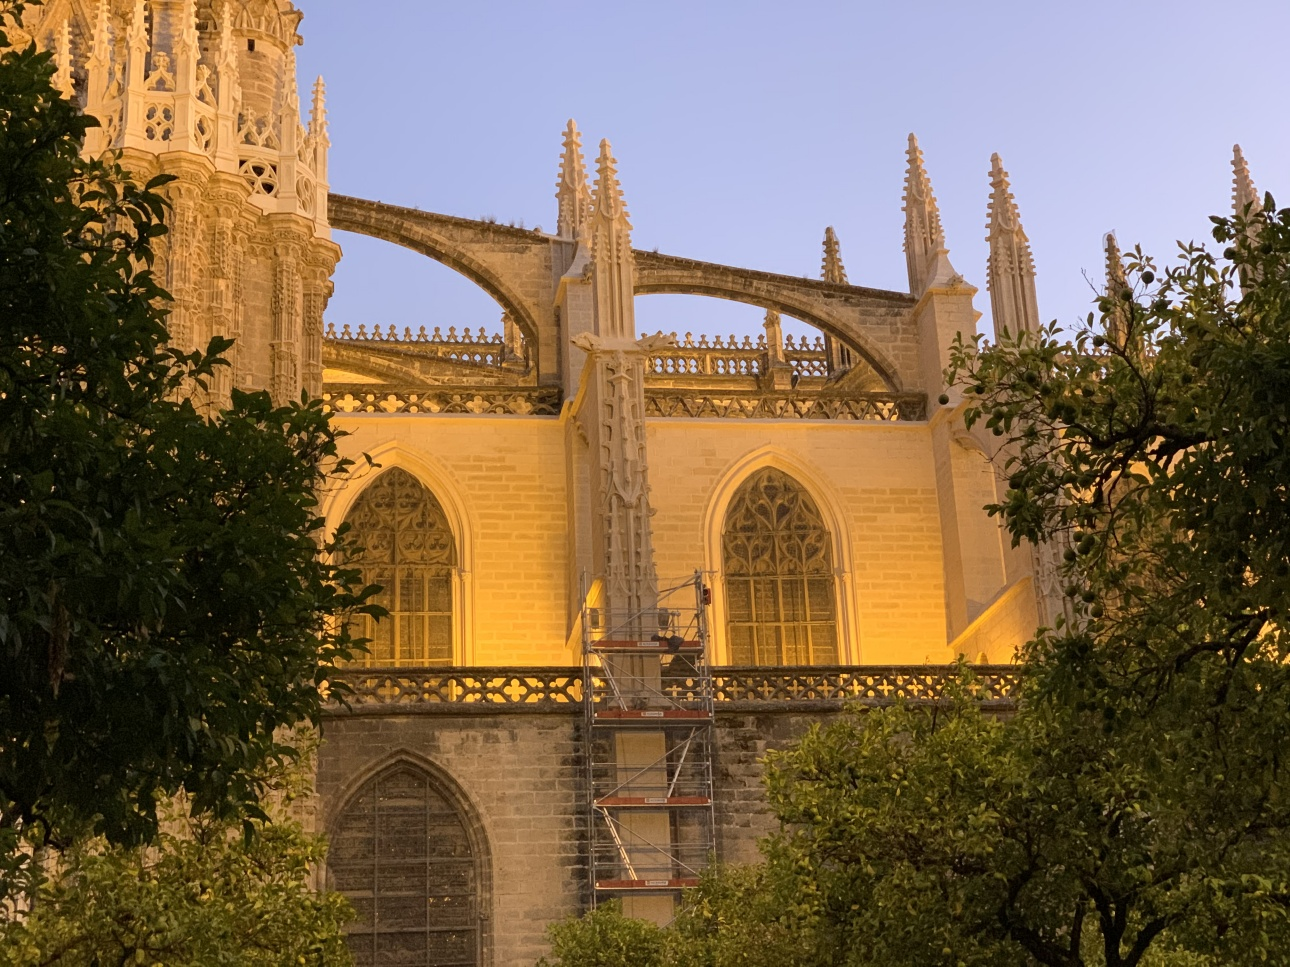arco-apuntado: (315, 742, 506, 879), (311, 444, 474, 554), (701, 449, 849, 557)
pinaculo-gotico: (977, 143, 1037, 291), (897, 126, 951, 255), (1095, 228, 1150, 348), (1223, 141, 1278, 249), (554, 113, 593, 225), (592, 130, 628, 224), (302, 69, 336, 157), (814, 219, 847, 282)
